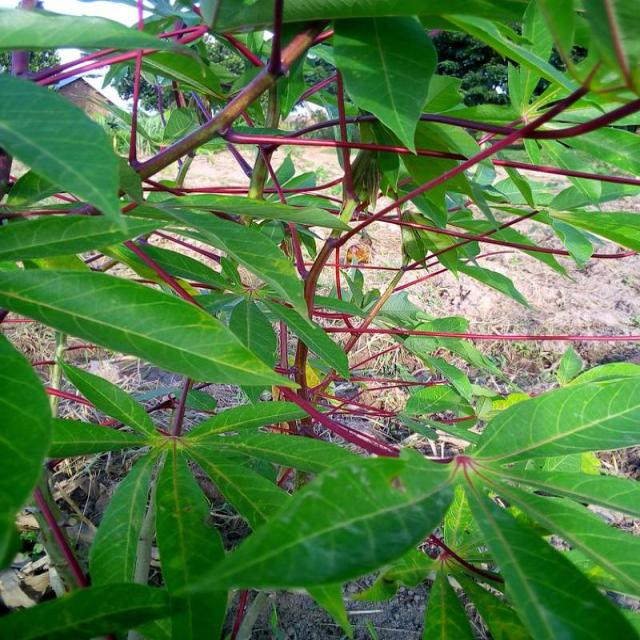cassava leaf: (2, 1, 640, 638), (2, 266, 300, 390), (467, 360, 640, 467), (333, 14, 439, 155)
